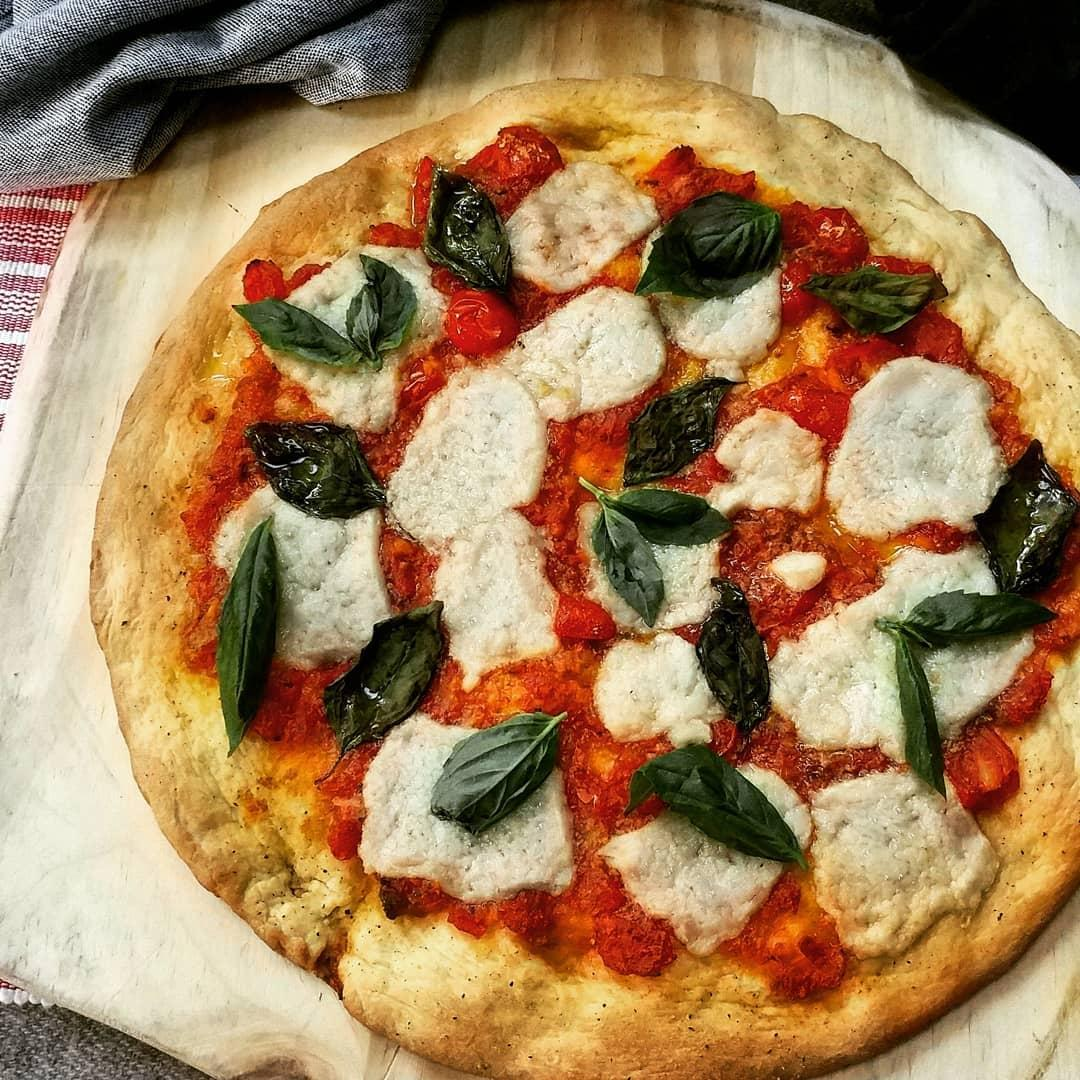Basil: (626, 735, 813, 878), (208, 509, 288, 765), (972, 425, 1080, 610), (861, 610, 954, 809), (633, 192, 788, 303), (241, 412, 400, 519), (599, 375, 742, 482), (579, 477, 674, 630), (222, 288, 369, 383), (409, 165, 519, 289), (702, 571, 775, 753), (797, 252, 951, 336), (895, 583, 1077, 653), (602, 472, 743, 555), (341, 244, 422, 366)
Cheese: (794, 536, 1017, 739), (339, 719, 579, 902), (813, 753, 999, 940), (266, 244, 452, 422), (221, 478, 396, 661), (620, 757, 804, 927), (395, 347, 562, 531), (830, 352, 1006, 522), (421, 501, 575, 676), (497, 170, 674, 288), (503, 285, 670, 407), (669, 260, 786, 364), (715, 411, 835, 511)
Pizza: (84, 60, 1080, 1080)
